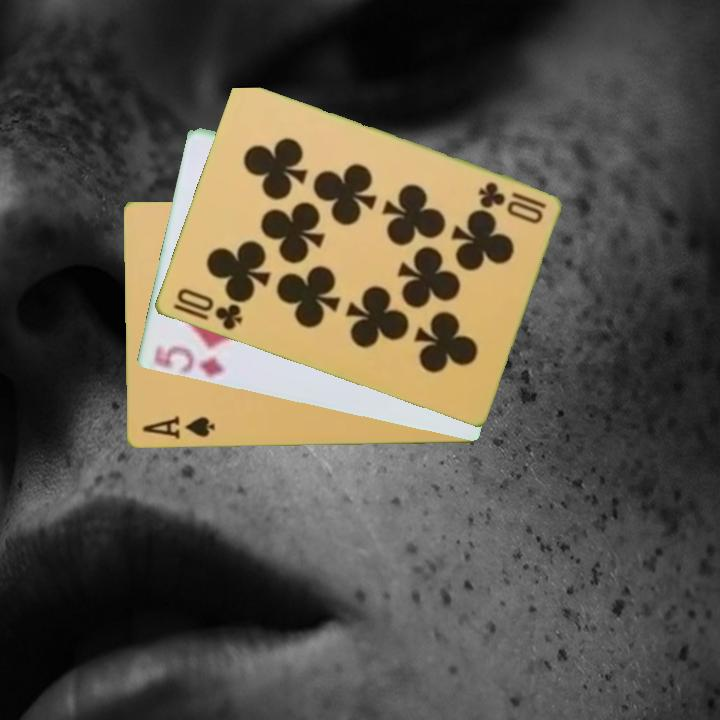10c: (473, 178, 549, 227), (172, 285, 245, 334)
5d: (153, 342, 228, 380)
As: (138, 412, 217, 442)
